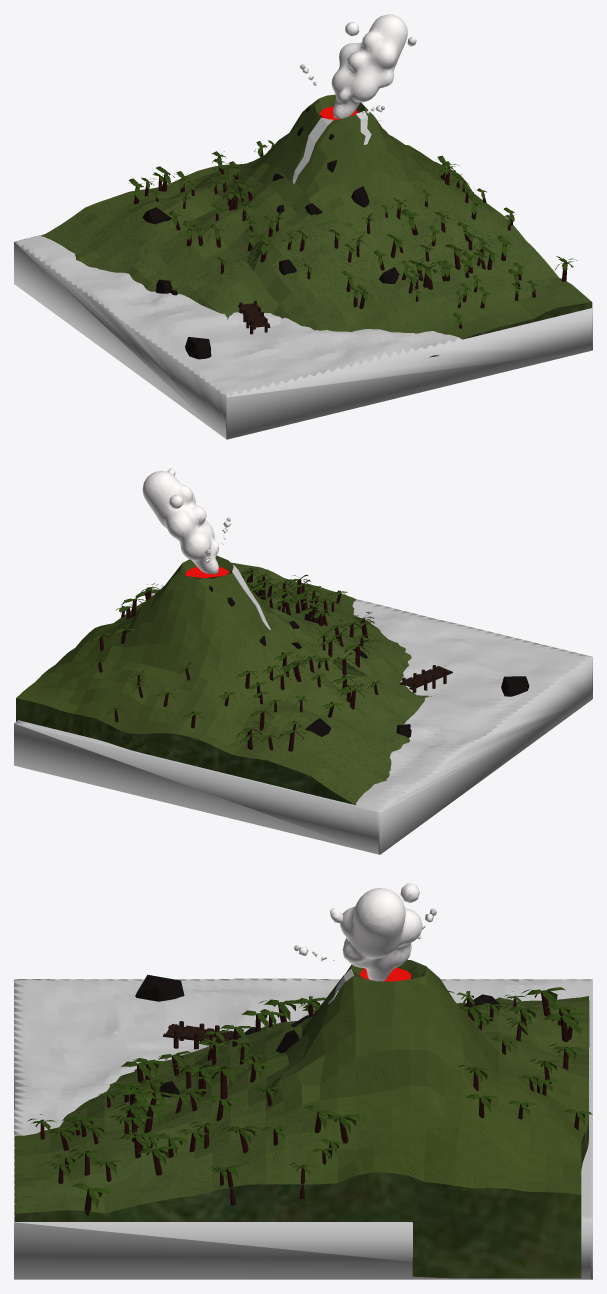
File: volcano.obj
3 renders of one model, top to bottom at view 1: azimuth 30°, elevation 25°; view 2: azimuth 150°, elevation 25°; view 3: azimuth 270°, elevation 25°, orthographic. The views are drawn at different scales.
Parts seen in each view (by area): view 1: Plane, Cube_Cube.001, Cylinder.001_Cylinder.004, Mball.021_Mesh, Plane.001; view 2: Plane, Cube_Cube.001, Cylinder.001_Cylinder.004, Mball.021_Mesh; view 3: Plane, Cube_Cube.001, Cylinder.001_Cylinder.004, Mball.021_Mesh, Icosphere.011_Icosphere.012.
Boxes of the visible parts, x1=… form: Plane: x1=41, y1=94, x2=592, y2=357; Cube_Cube.001: x1=14, y1=234, x2=592, y2=439; Cylinder.001_Cylinder.004: x1=129, y1=120, x2=577, y2=328; Mball.021_Mesh: x1=302, y1=14, x2=416, y2=118; Plane.001: x1=292, y1=117, x2=333, y2=183; Plane: x1=16, y1=555, x2=431, y2=804; Cube_Cube.001: x1=14, y1=599, x2=592, y2=854; Cylinder.001_Cylinder.004: x1=91, y1=568, x2=382, y2=751; Mball.021_Mesh: x1=142, y1=468, x2=230, y2=574; Plane: x1=15, y1=960, x2=589, y2=1278; Cube_Cube.001: x1=14, y1=978, x2=592, y2=1279; Cylinder.001_Cylinder.004: x1=27, y1=987, x2=592, y2=1215; Mball.021_Mesh: x1=299, y1=883, x2=433, y2=981; Icosphere.011_Icosphere.012: x1=135, y1=974, x2=184, y2=1001.
Size of what is drawn, in the model's own units: 17.32 by 11.07 by 16.84.
